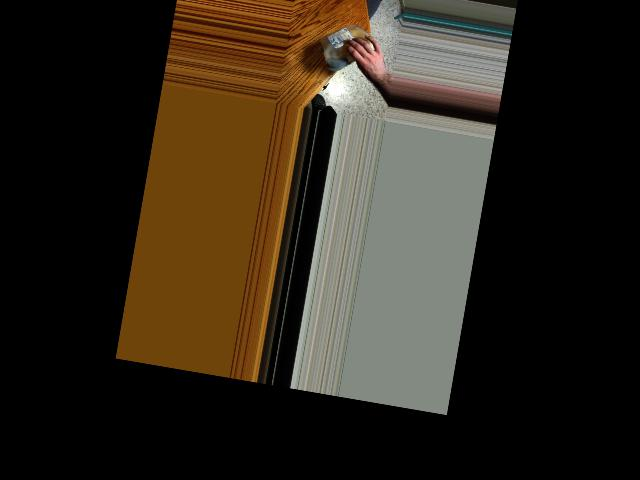cheese: (315, 16, 381, 71)
